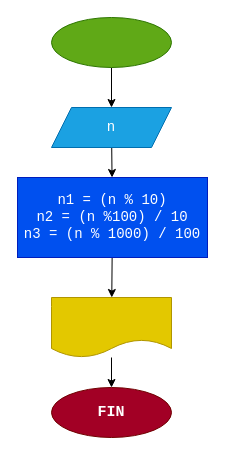
This 225x455 diagram has some shape labels left out. The centre of each missing label's shape, as x and y in pixels:
"INICIO" belongs at [111,42].
"ni" belongs at [111,327].
